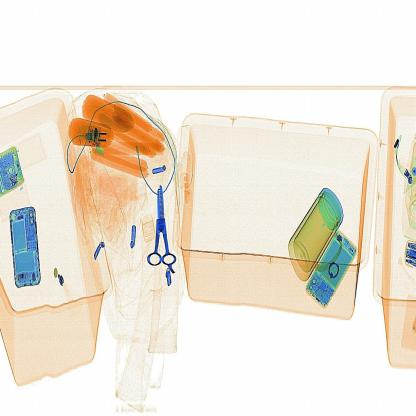gun: (141, 178, 188, 275)
